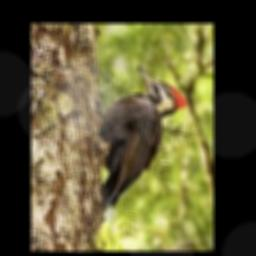Woodpecker: (98, 65, 186, 211)
